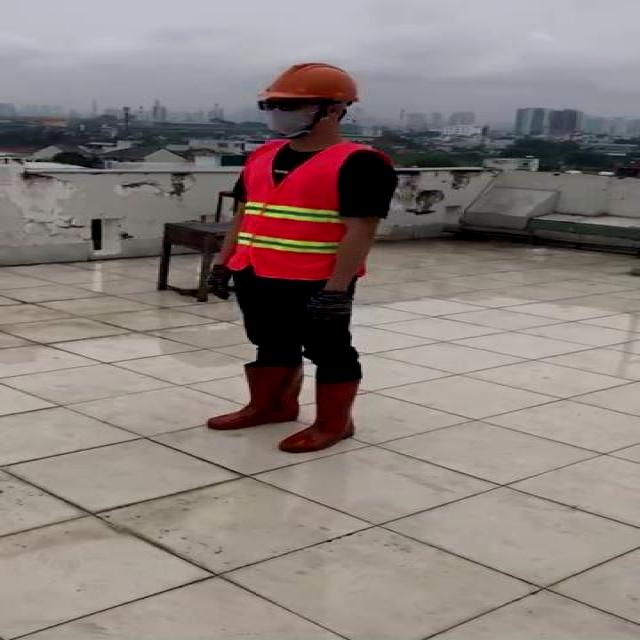boots: (276, 373, 375, 455), (194, 362, 302, 430)
face_mask: (260, 94, 322, 135)
glasses: (253, 95, 311, 114)
hand_glove: (302, 287, 359, 321), (203, 260, 238, 302)
head_helmet: (260, 60, 362, 103)
person: (199, 60, 395, 455)
vest: (229, 141, 395, 281)
